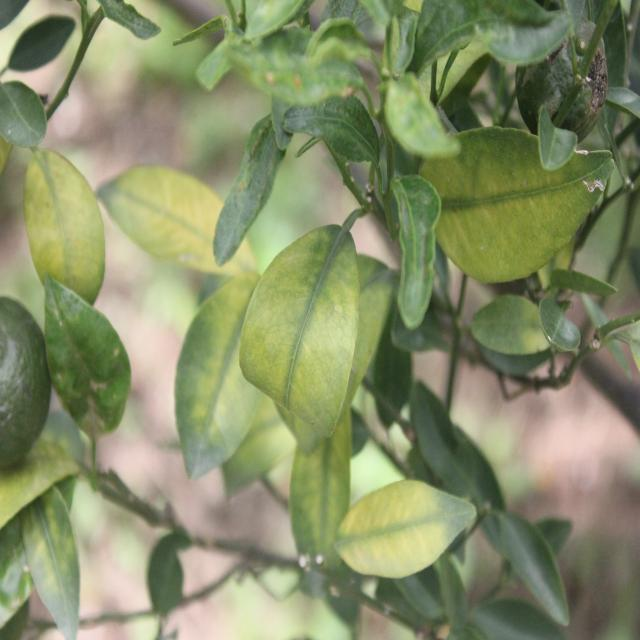greening: (258, 228, 373, 426), (436, 144, 578, 278), (103, 162, 245, 279), (339, 474, 462, 584), (21, 163, 112, 309)
